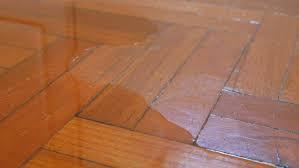Wet-floor: (0, 111, 262, 168), (0, 6, 156, 86), (0, 90, 145, 115)
